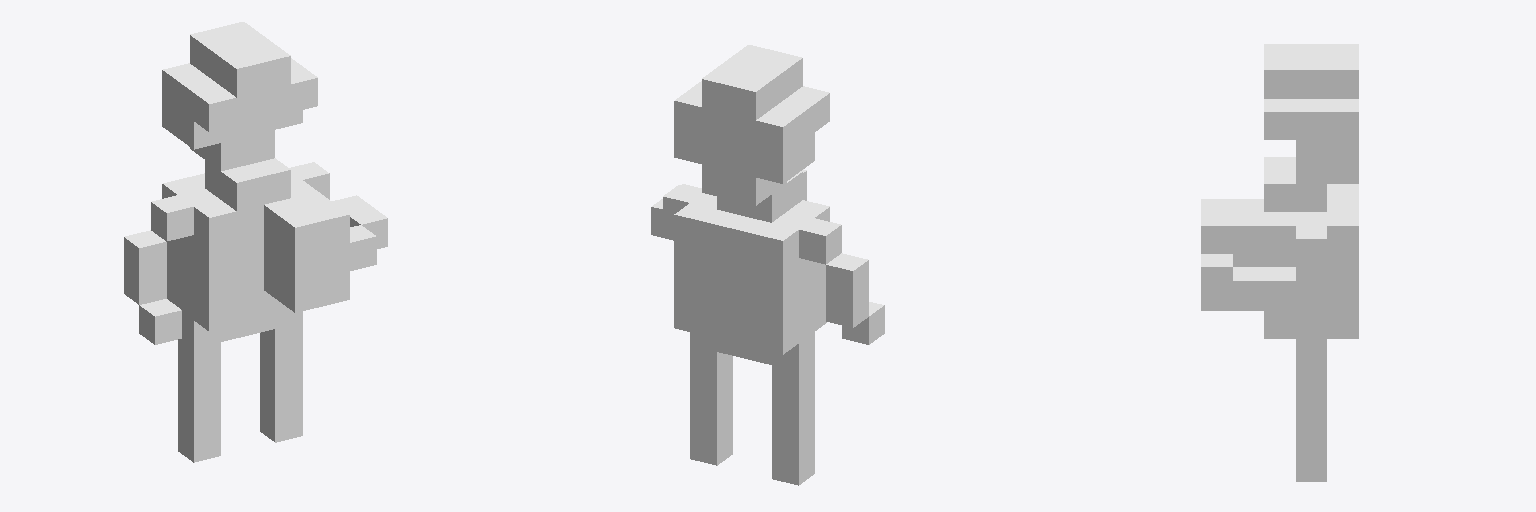
The model's file is scummBarPirate09.obj.
3 renders of one model, left to right at view 1: azimuth 30°, elevation 25°; view 2: azimuth 150°, elevation 25°; view 3: azimuth 270°, elevation 25°, orthographic.
Bounding box in the file's own units: 8 × 14 × 5.